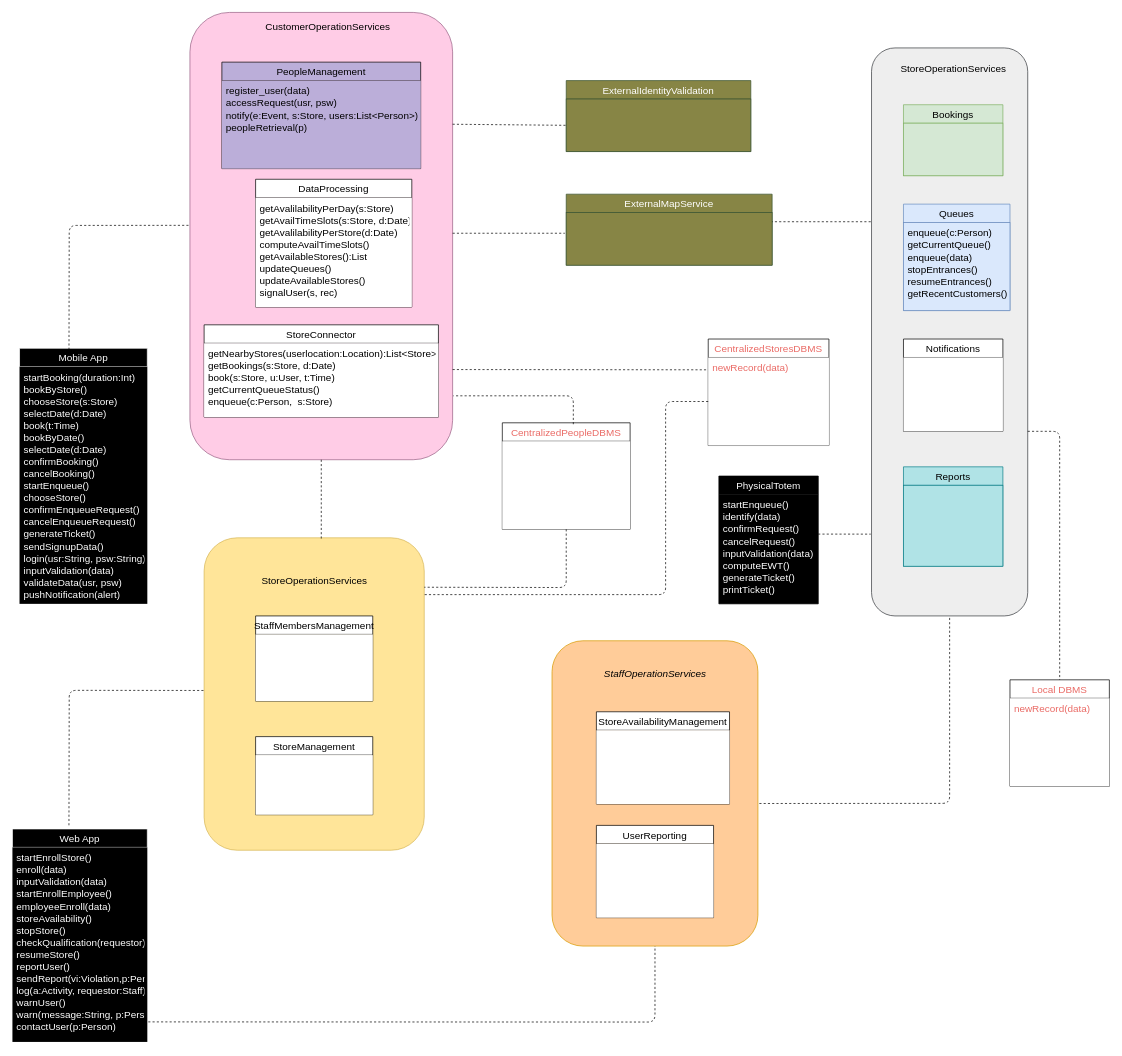
Some shapes in this 1122 by 1056 pixel diagram are drawn without their labels. Here are the shapes that lost their labels. From the top down, the centre of each, then its label:
pixel 658 125: checkIdentity(cf:FIscalCode)
pixel 953 149: getBookings(d:Date) book(u:User, t:Time)
pixel 669 238: getLocation() computeDistance(userLoc:Location, s:Store)
pixel 953 394: update() stopStore() resumeStore() notify(vi, p)
pixel 566 485: newRecord(data) credentialsLookup(usr, psw) newRecord(data, cardID)
pixel 953 525: reportUser(vi, p) reportUser(message, p)
pixel 313 667: addMember(data) computeCardID()
pixel 313 784: registerStore(data)
pixel 662 767: stop() resume()
pixel 654 880: report(vi, p) warn(message, p)
